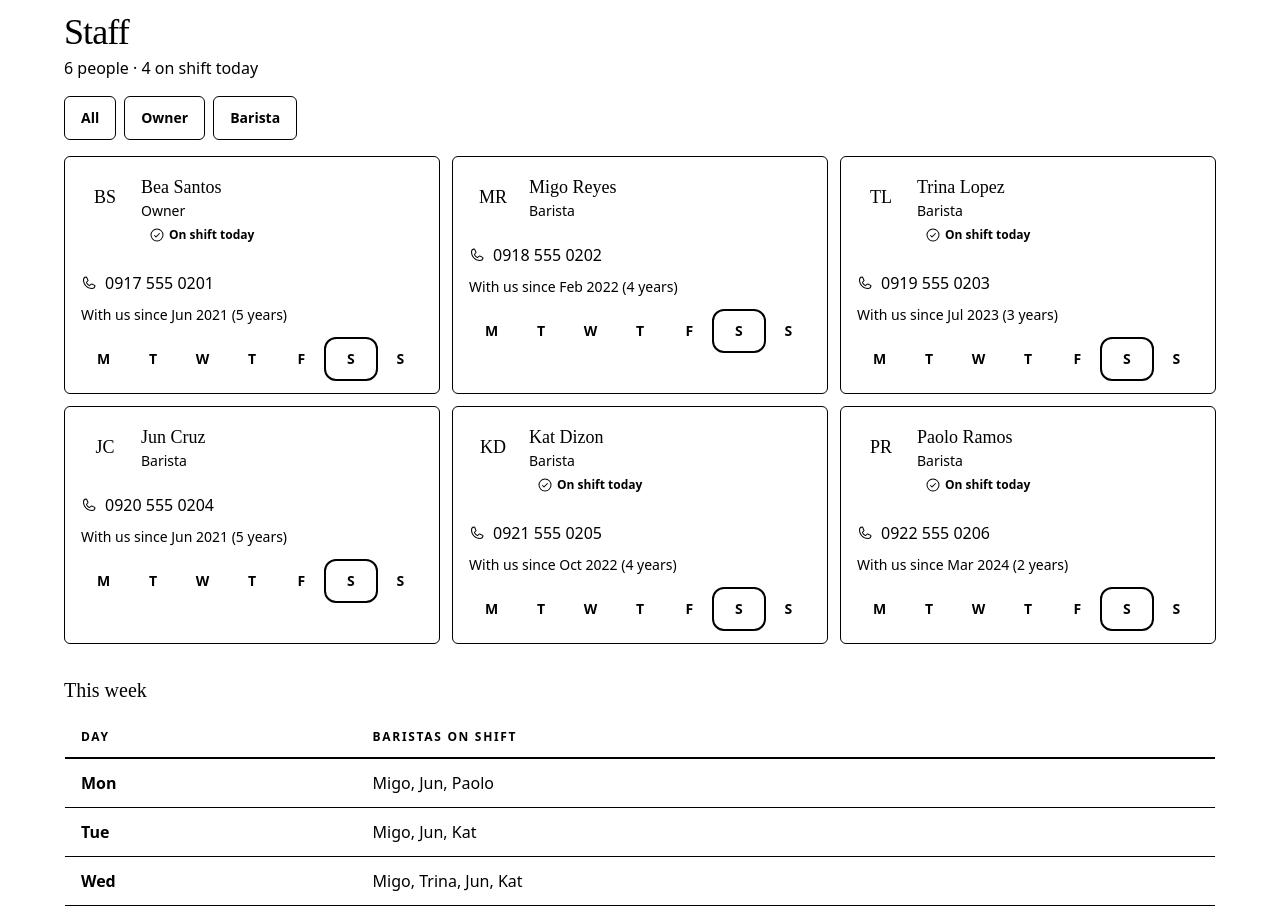
Staff › filters by role with the chips
This screenshot has width=1280, height=912.
Click the button "Barista" at (255, 118), box 213,96 -> 297,140
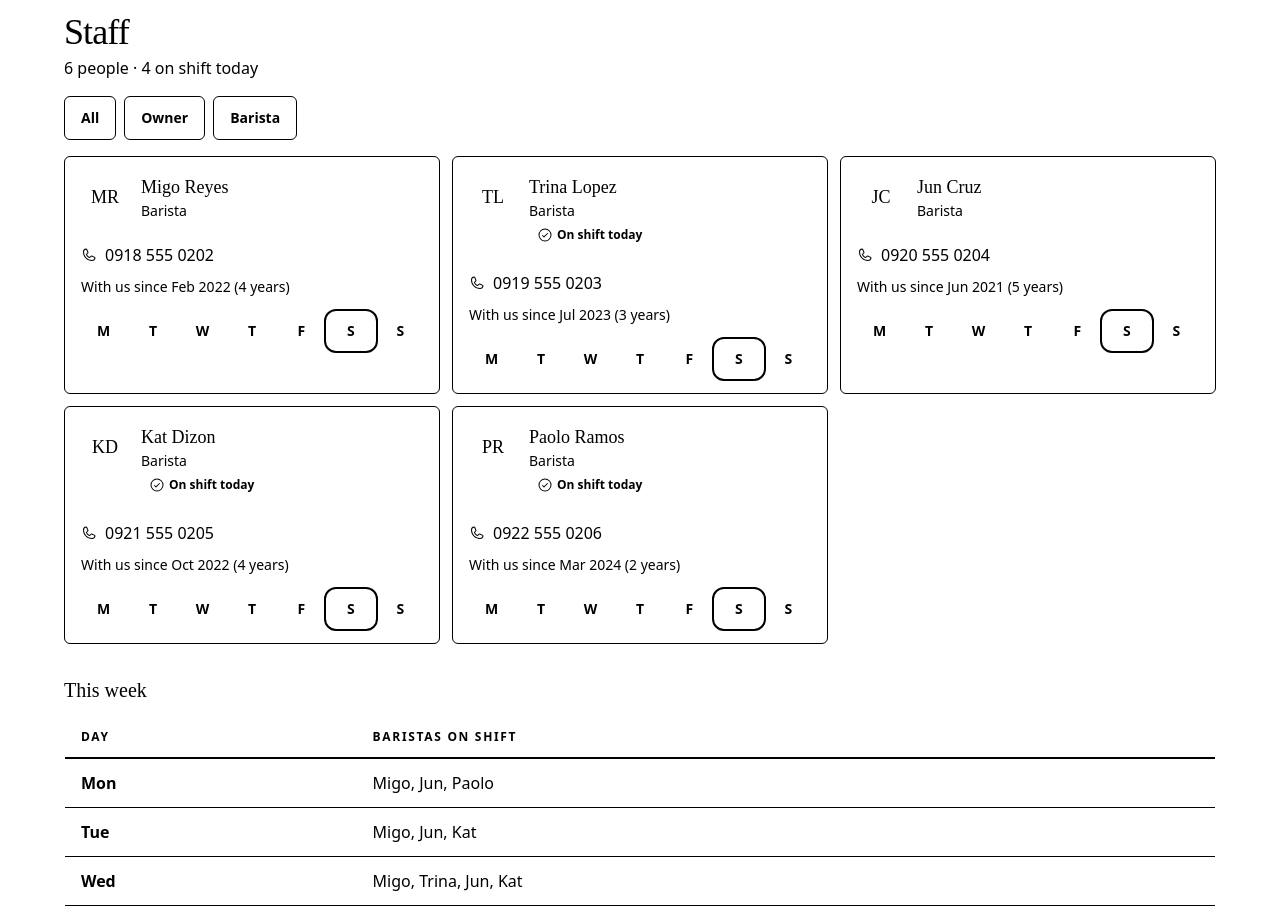
Now the number of list items with test id "staff-card" is 5, box 64,156 -> 440,394; 452,156 -> 828,394; 840,156 -> 1216,394; 64,406 -> 440,644; 452,406 -> 828,644
Click the button "All" at (90, 118), box 64,96 -> 116,140
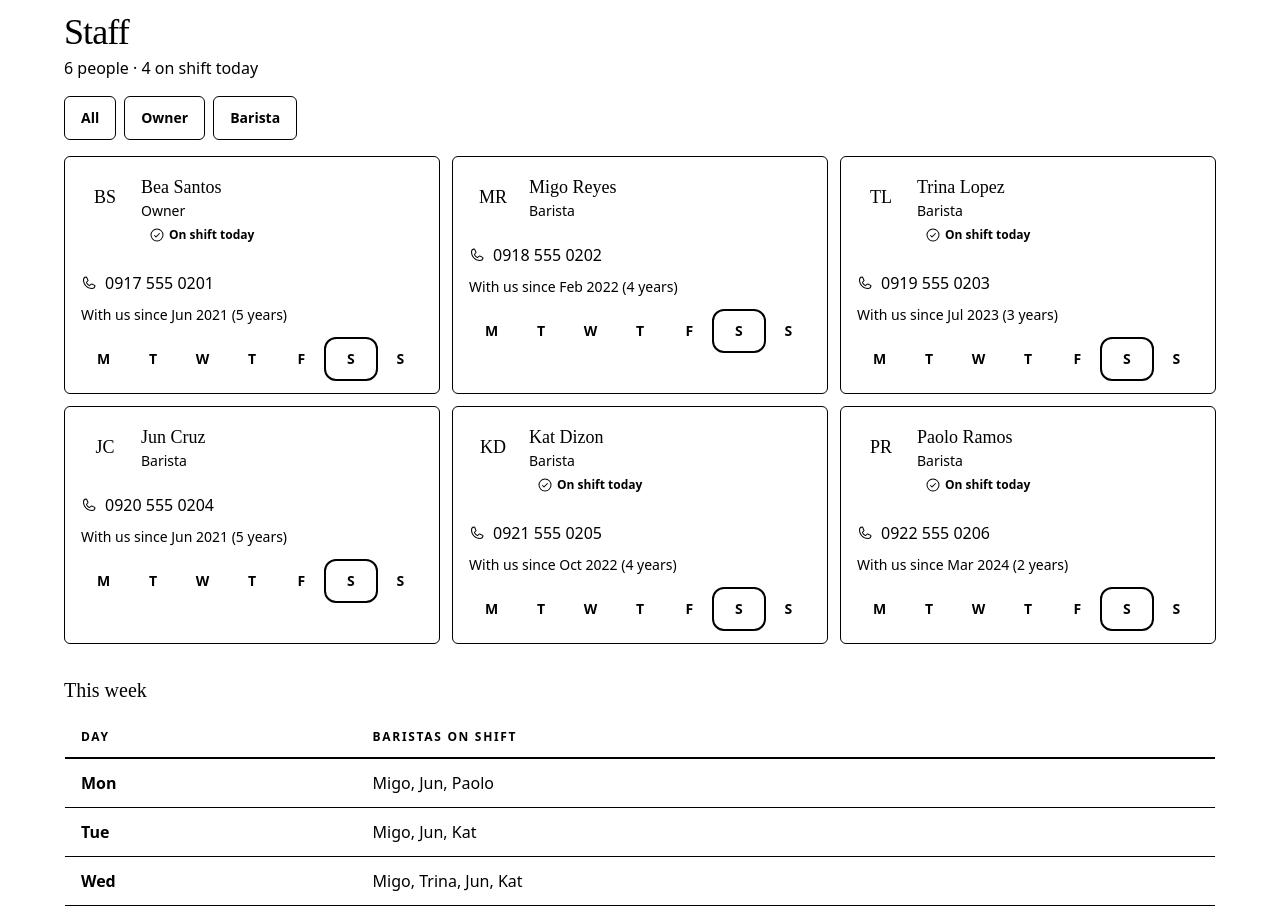
Now the number of list items with test id "staff-card" is 6, box 64,156 -> 440,394; 452,156 -> 828,394; 840,156 -> 1216,394; 64,406 -> 440,644; 452,406 -> 828,644; 840,406 -> 1216,644
